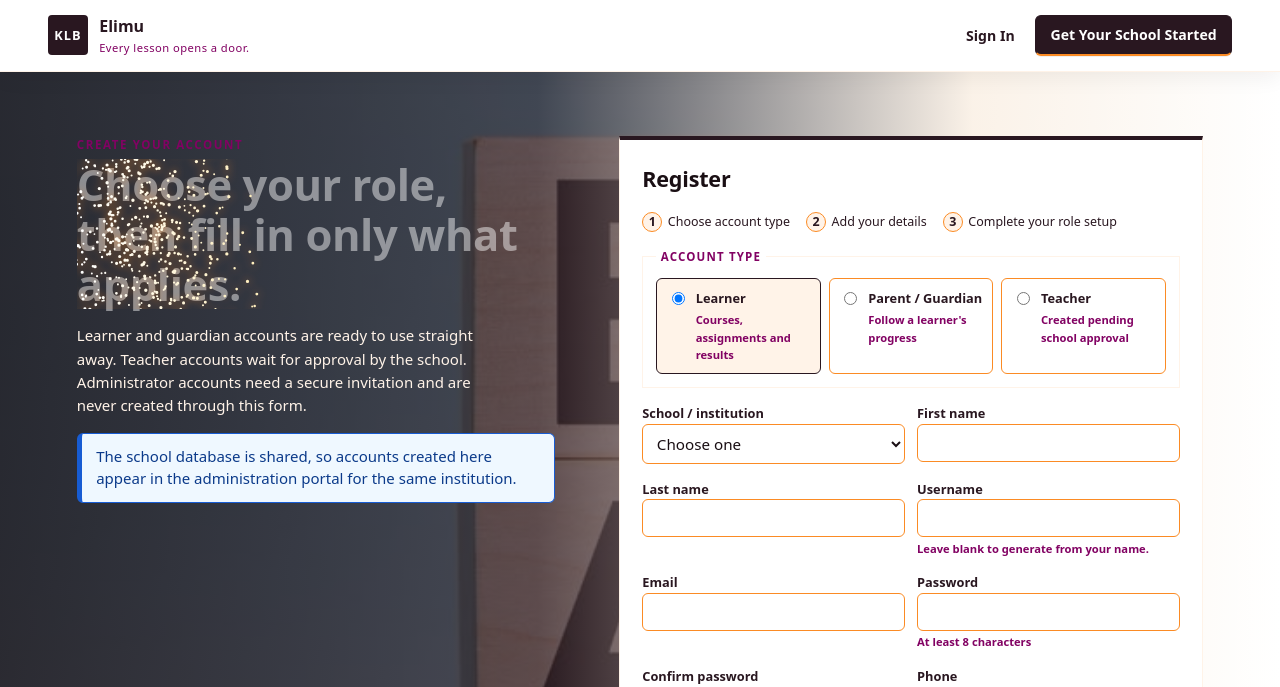
Test: public registration › offers only public roles and changes fields with the selected role
Check: the text "Administrator accounts need a secure invitation" is shown, box [77, 326, 473, 415]
What coordinates should you click on to do the following:
click the radio button labelled "Teacher Created pending school approval"
I would click on:
 (1024, 299)
Its box is [1017, 292, 1030, 305].
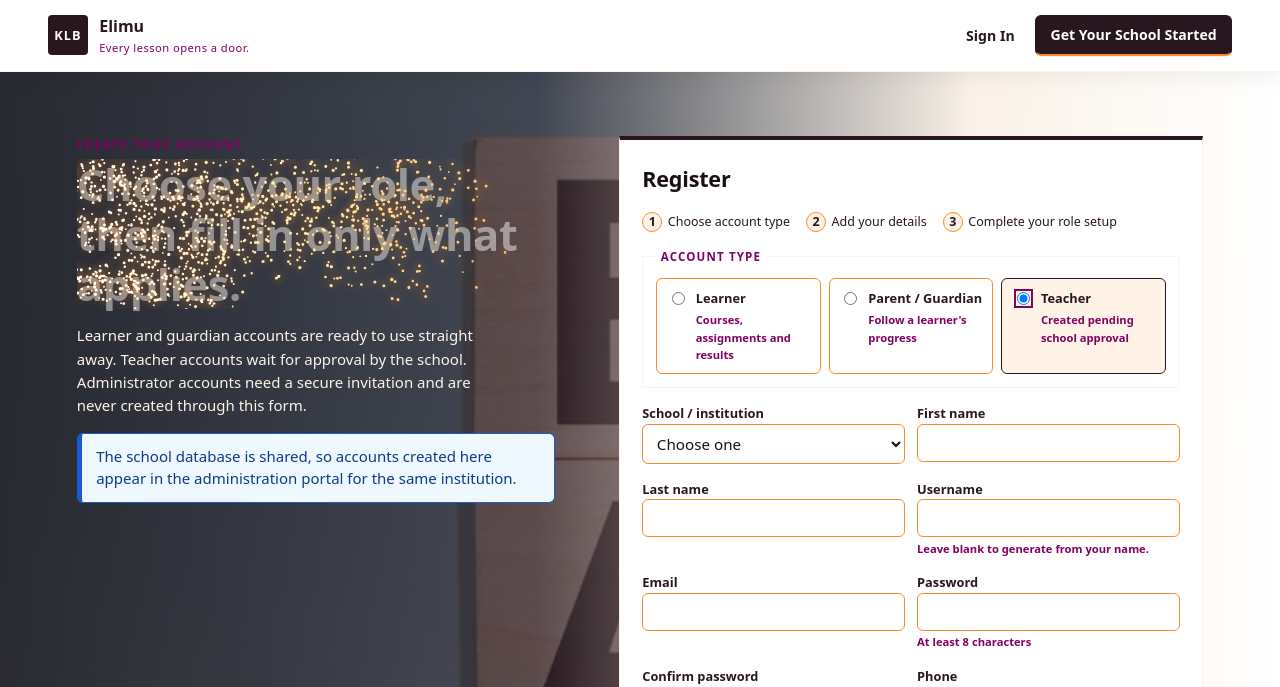
What coordinates should you click on to do the following:
click the radio button labelled "Parent / Guardian Follow a learner's progress"
I would click on:
 (851, 299)
Its box is [844, 292, 857, 305].
(page scrolled)
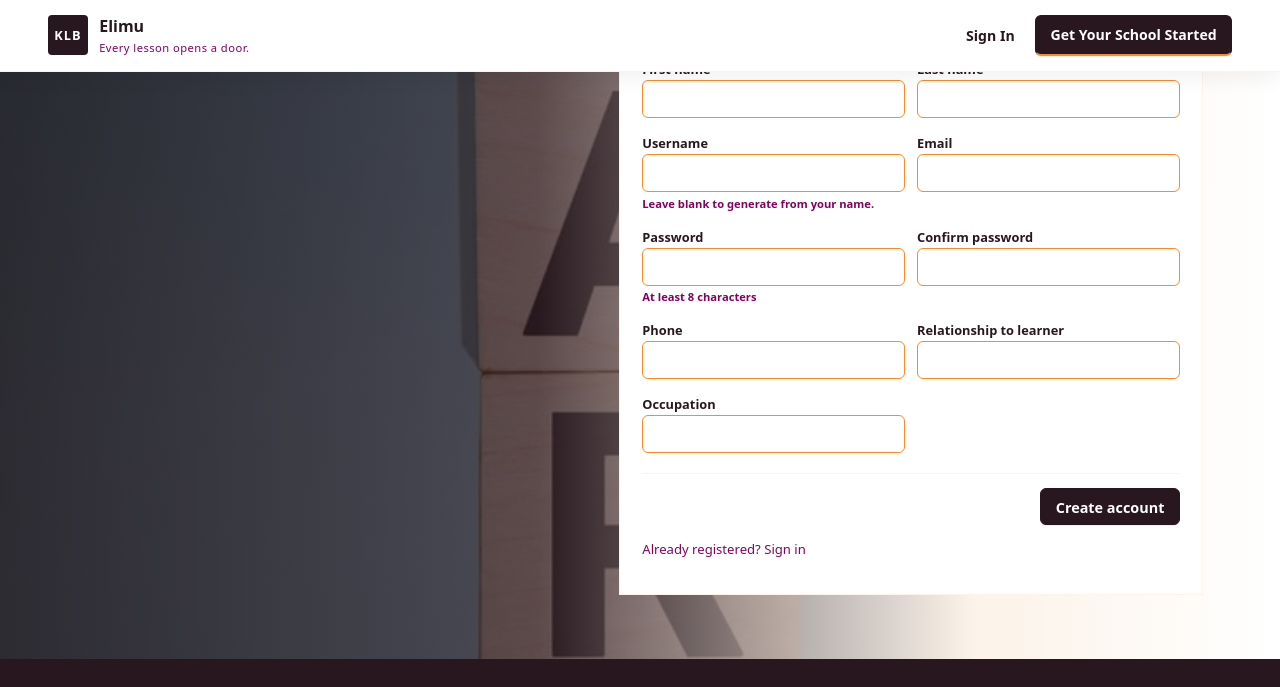
Check: the field labelled "Relationship to learner" is shown, box [917, 341, 1180, 379]
